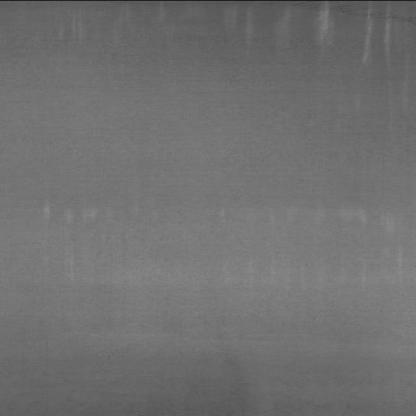waist_folding: (25, 7, 398, 292)
